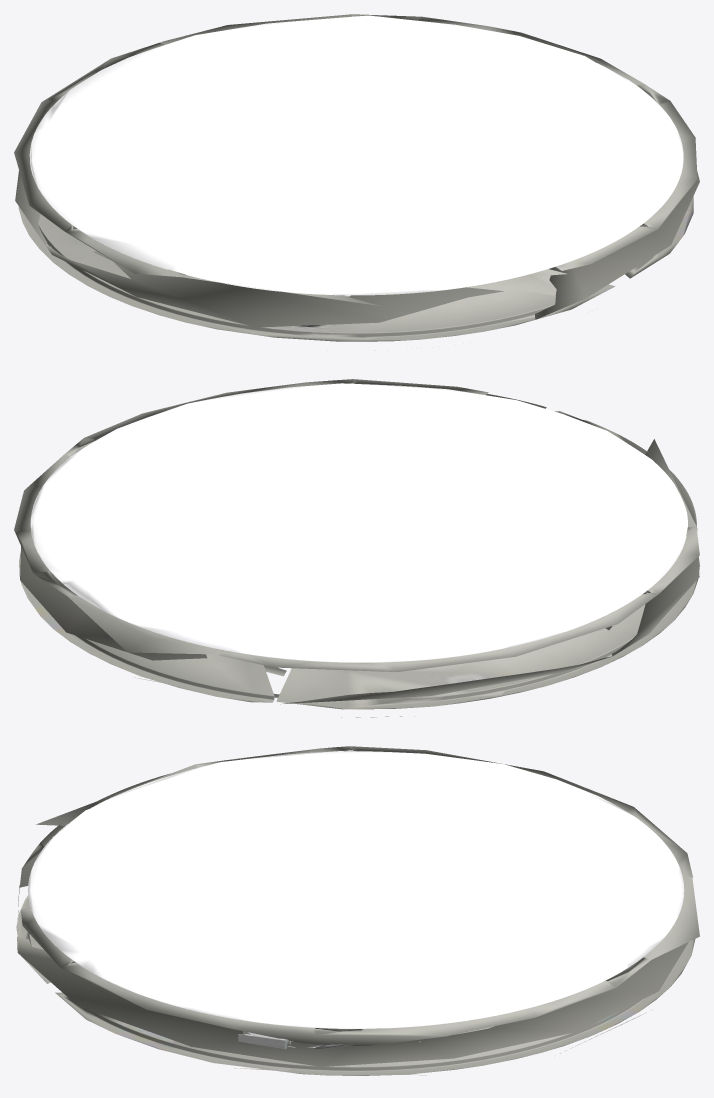
The model's file is fixture_ceilinglamp_a01.glb.
The picture shows the model from 3 angles, top to bottom: view 1: azimuth 30°, elevation 25°; view 2: azimuth 150°, elevation 25°; view 3: azimuth 270°, elevation 25°; orthographic projection.
Visible parts, largest first — view 1: sm_fixture_ceilinglamp_a01_01; view 2: sm_fixture_ceilinglamp_a01_01; view 3: sm_fixture_ceilinglamp_a01_01.
Boxes of the visible parts, x1,y1,x2,y2 form: sm_fixture_ceilinglamp_a01_01: (14,14,699,350); sm_fixture_ceilinglamp_a01_01: (14,379,699,717); sm_fixture_ceilinglamp_a01_01: (16,746,699,1075).
Size of the model in its own units: 0.3744 by 0.04 by 0.3744.
3 materials, 2 textured.
